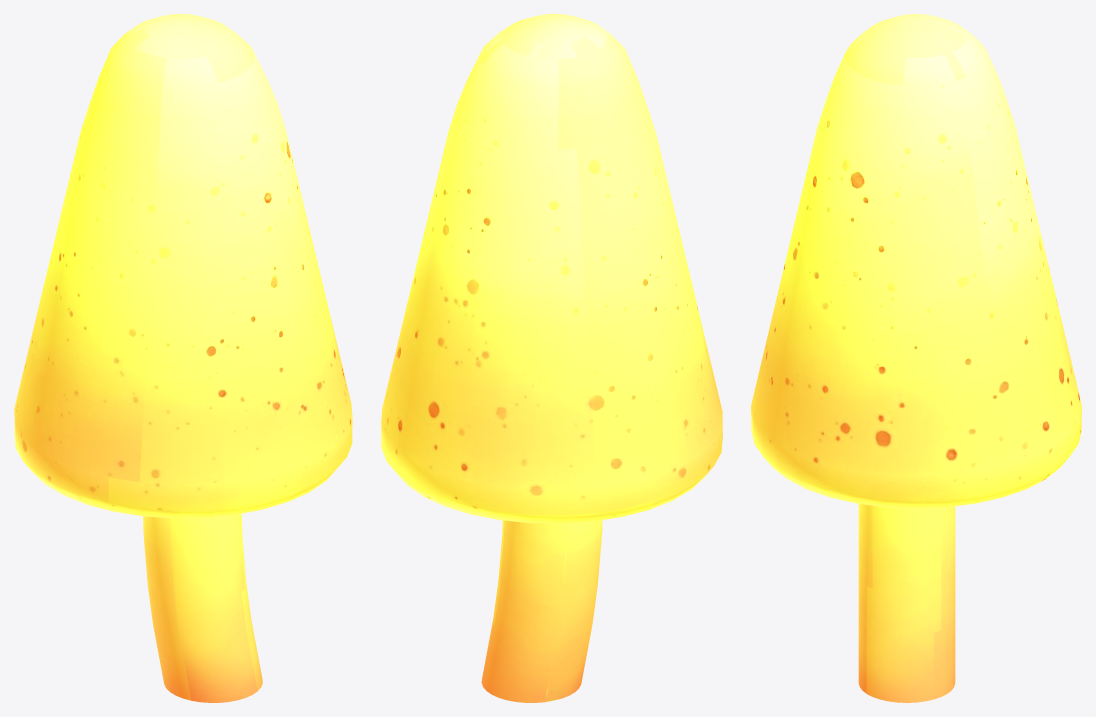
Rendered from glowing_mush_v2.glb.
3 renders of one model, left to right at view 1: azimuth 30°, elevation 25°; view 2: azimuth 150°, elevation 25°; view 3: azimuth 270°, elevation 25°, orthographic. The views are drawn at different scales.
Parts seen in each view (by area): view 1: Cone.002; view 2: Cone.002; view 3: Cone.002.
Part boxes in pixels (x1=…): Cone.002: x1=14, y1=14, x2=352, y2=702; Cone.002: x1=381, y1=14, x2=722, y2=702; Cone.002: x1=751, y1=14, x2=1081, y2=702.
Size of the model in its own units: 1.46 by 3.16 by 1.46.
Materials: 1 (1 with a texture image).
